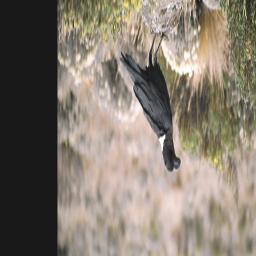Crow: (119, 27, 182, 178)
